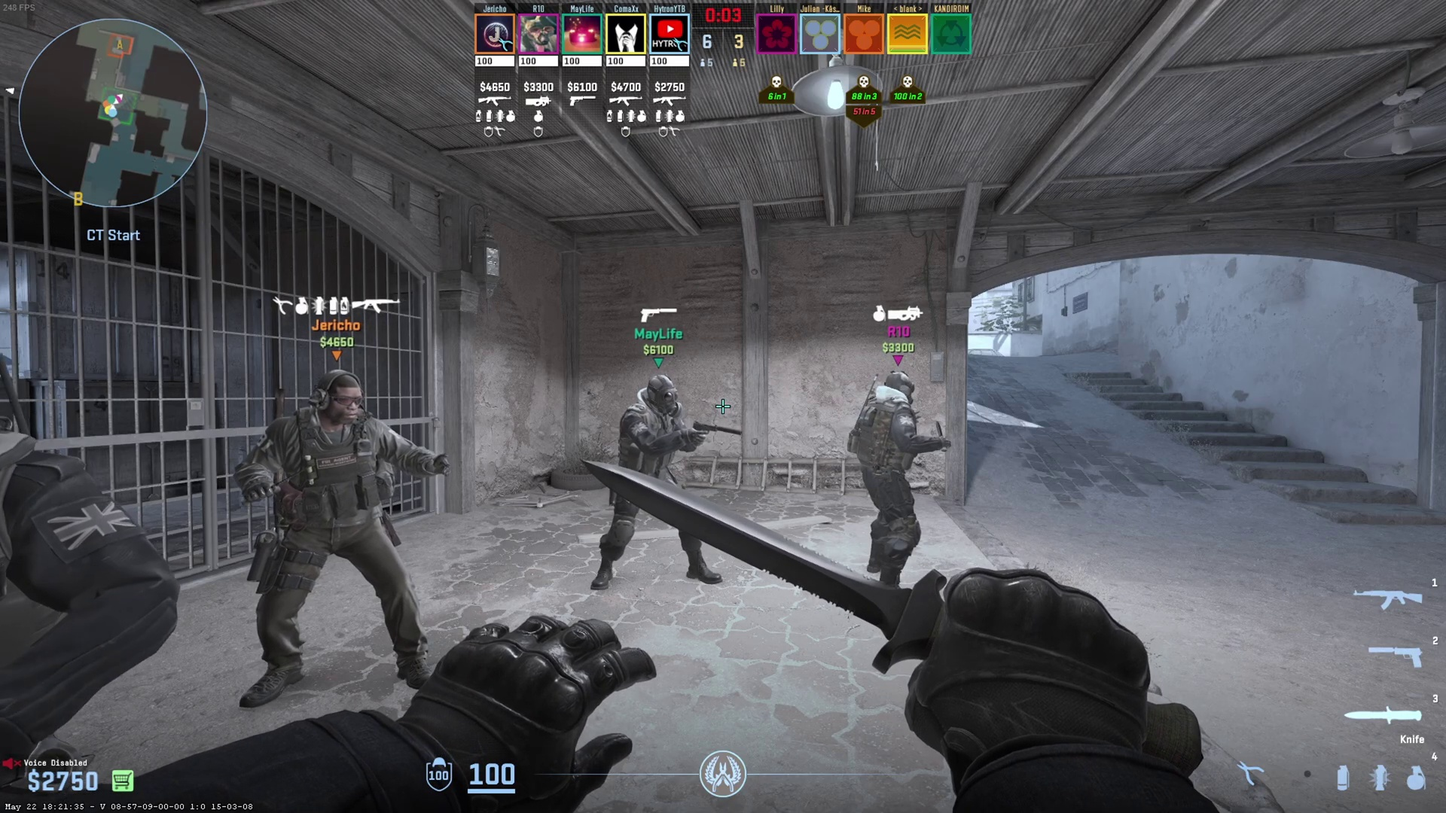CT: (237, 370, 429, 710), (2, 415, 156, 804), (593, 375, 721, 586), (863, 370, 920, 580)
